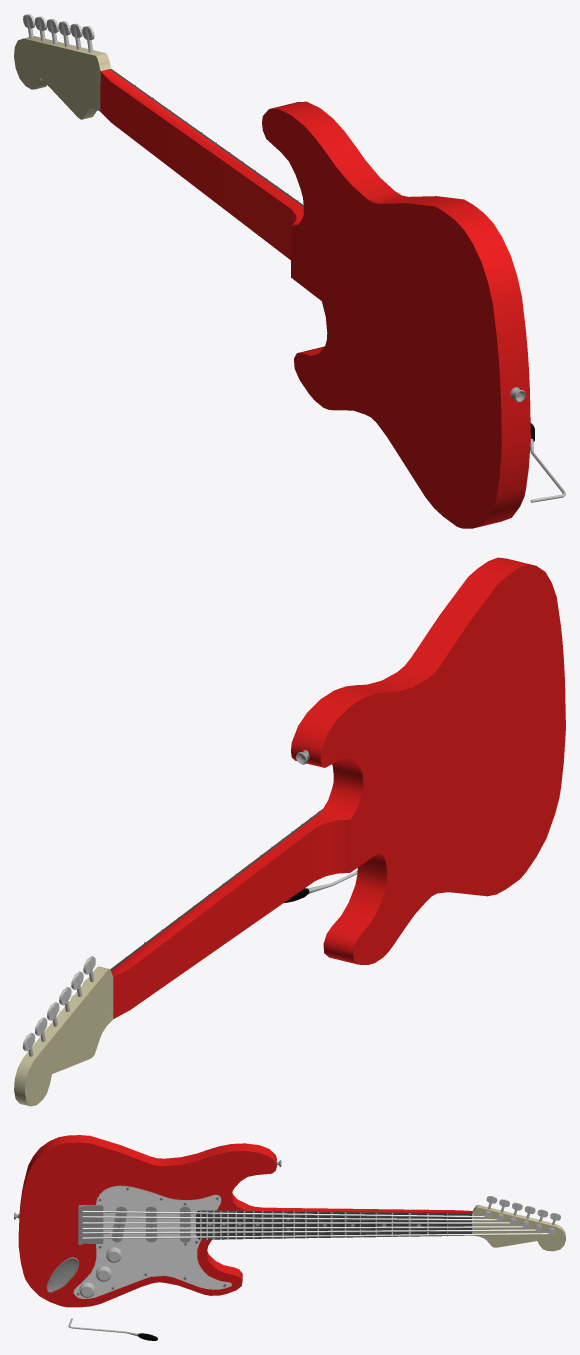
The model's file is Electric Guitar Stratocaster Red.fbx.
3 renders of one model, top to bottom at view 1: azimuth 30°, elevation 25°; view 2: azimuth 150°, elevation 25°; view 3: azimuth 270°, elevation 25°, orthographic. The views are drawn at different scales.
Visible parts, largest first — view 1: Guitar, Tuning_Keys; view 2: Guitar, Tuning_Keys; view 3: Guitar, Strings, Tuning_Keys, Controls, Vibrato.
Part boxes in pixels (x1,y1,x2,y2): Guitar: [14, 36, 530, 528]; Tuning_Keys: [23, 14, 94, 52]; Guitar: [14, 557, 565, 1106]; Tuning_Keys: [22, 956, 95, 1056]; Guitar: [14, 1135, 565, 1307]; Strings: [82, 1210, 548, 1238]; Tuning_Keys: [484, 1196, 560, 1234]; Controls: [79, 1247, 121, 1297]; Vibrato: [68, 1318, 157, 1340].
Size of the model in its own units: 88.54 by 165 by 498.
